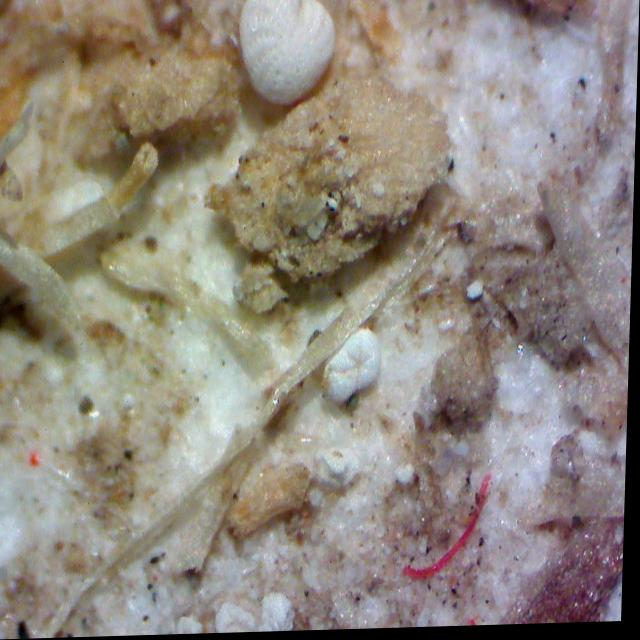microplastic: (406, 477, 495, 582)
